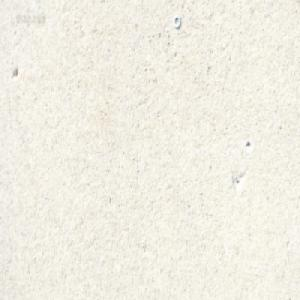Washer: (173, 14, 180, 28)
